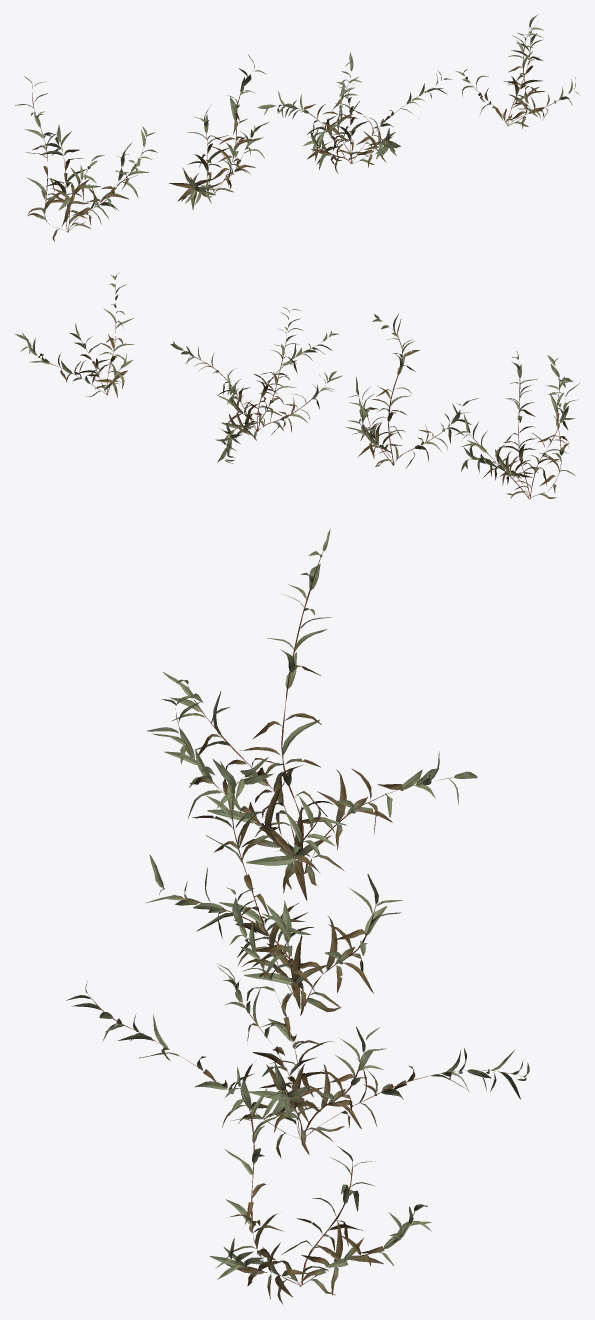
The model's file is shrub_02.glb.
The picture shows the model from 3 angles, top to bottom: view 1: azimuth 30°, elevation 25°; view 2: azimuth 150°, elevation 25°; view 3: azimuth 270°, elevation 25°; orthographic projection. The views are drawn at different scales.
Parts seen in each view (by area): view 1: shrub_02_a; view 2: shrub_02_a; view 3: shrub_02_a.
Part boxes in pixels (left/top/right/bottom): shrub_02_a: left=15, top=14, right=579, bottom=241; shrub_02_a: left=15, top=272, right=579, bottom=499; shrub_02_a: left=66, top=528, right=529, bottom=1304.
Size of the model in its own units: 6.05 by 1.7 by 2.29.
1 material, 1 textured.
